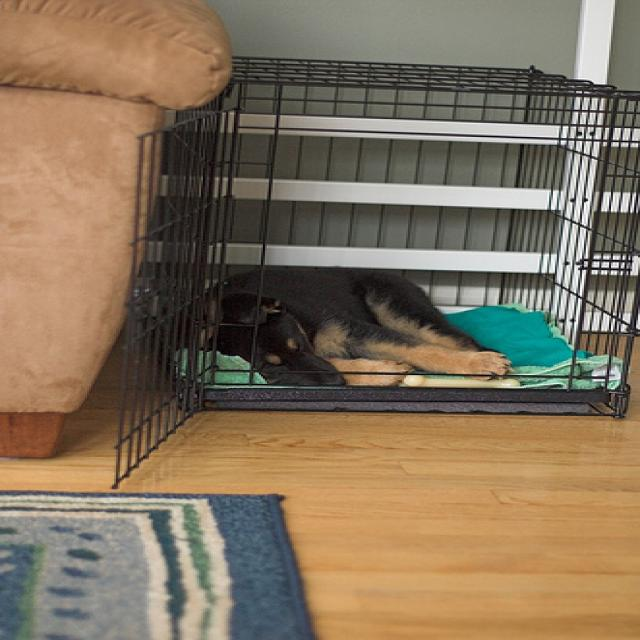dog: (162, 263, 514, 389)
